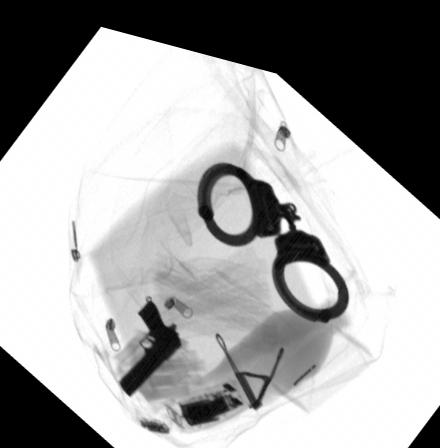Gun: (116, 289, 182, 391)
HandCuffs: (194, 146, 348, 305)
